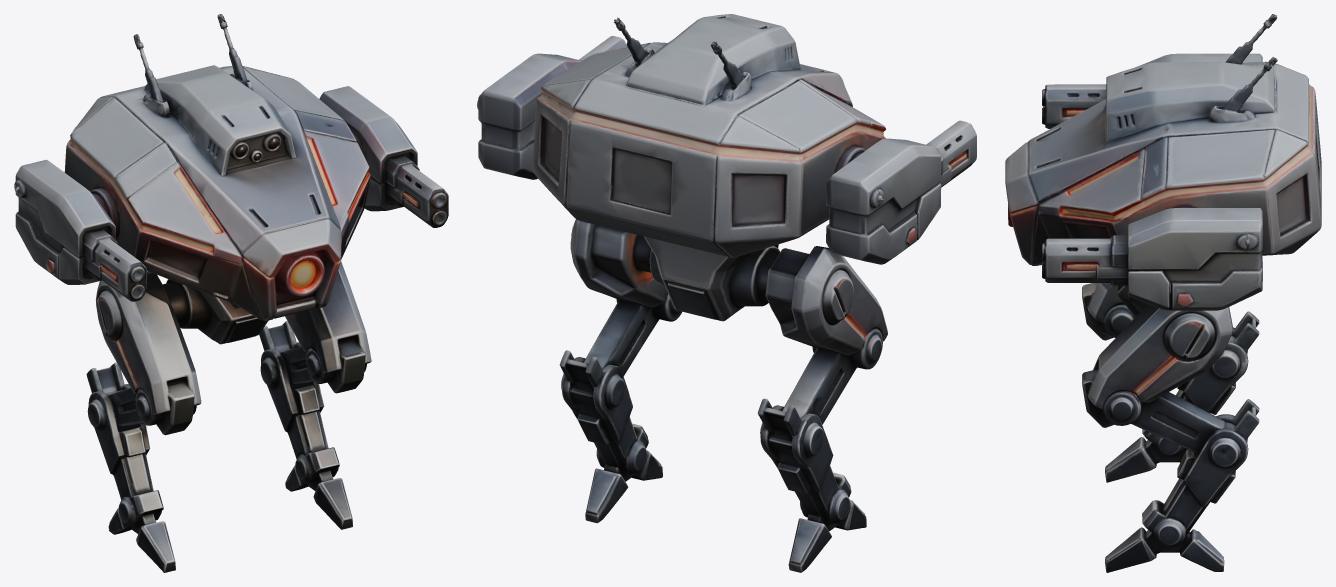
Rendered from tripo_convert_51fea9e9-b68f-45bc-9f4b-209544f65d63.fbx.
The picture shows the model from 3 angles, left to right: view 1: azimuth 30°, elevation 25°; view 2: azimuth 150°, elevation 25°; view 3: azimuth 270°, elevation 25°; orthographic projection. The views are drawn at different scales.
Visible parts, largest first — view 1: tripo_node_51fea9e9; view 2: tripo_node_51fea9e9; view 3: tripo_node_51fea9e9.
Boxes of the visible parts, x1,y1,x2,y2 form: tripo_node_51fea9e9: [14, 14, 448, 572]; tripo_node_51fea9e9: [477, 14, 976, 572]; tripo_node_51fea9e9: [1005, 14, 1321, 572].
Size of the model in its own units: 76.78 by 57.32 by 97.94.
1 material, 1 textured.
